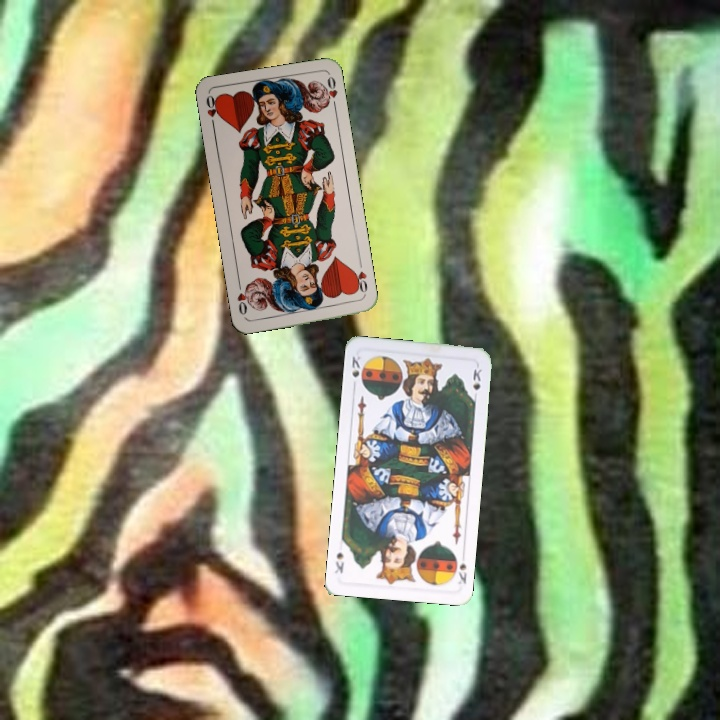HO: (349, 258, 370, 299), (202, 91, 222, 132)
SK: (348, 352, 363, 391), (454, 557, 469, 587)
